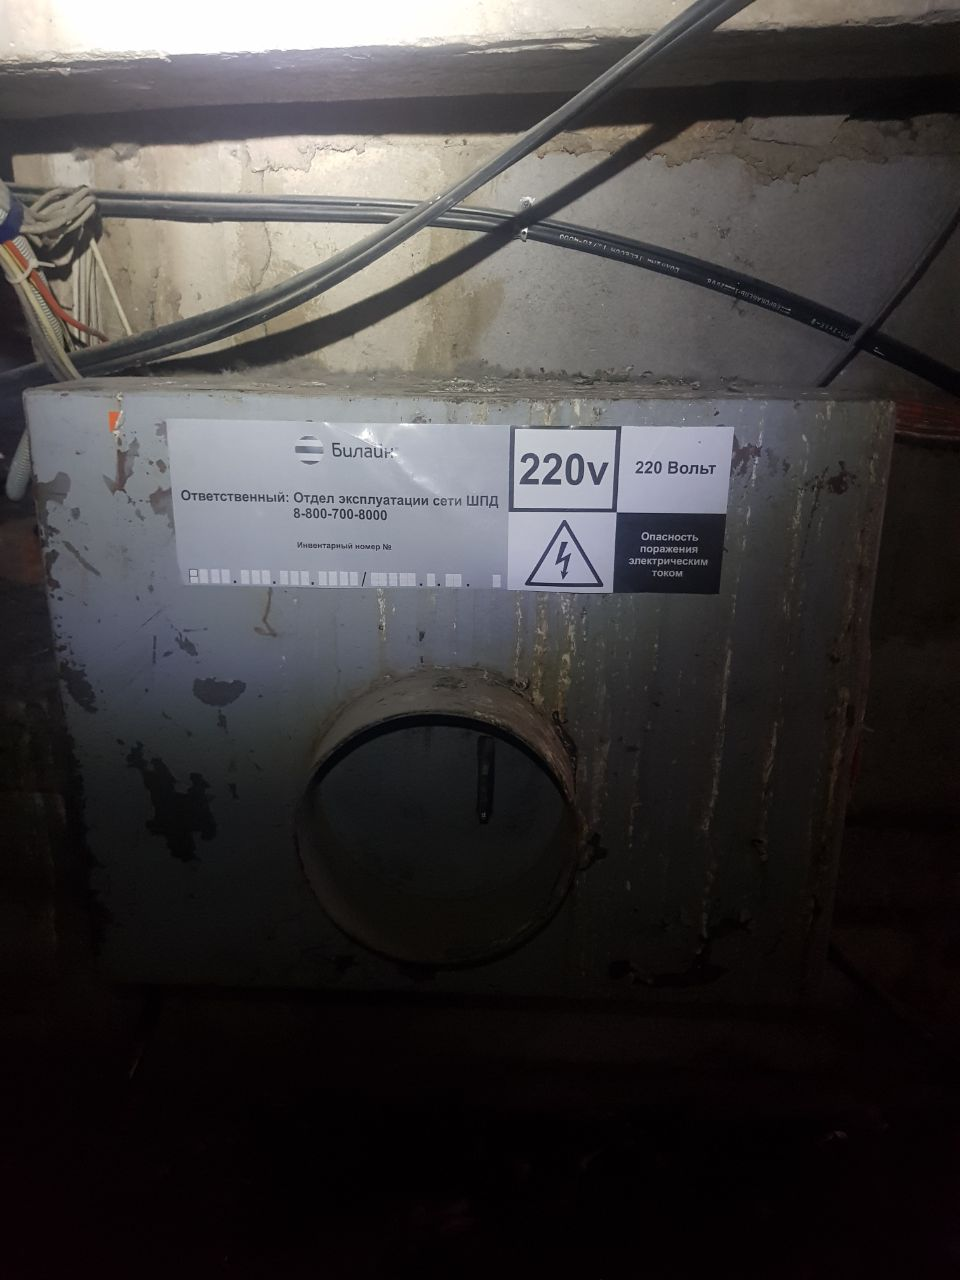shta-3: (16, 370, 899, 955)
